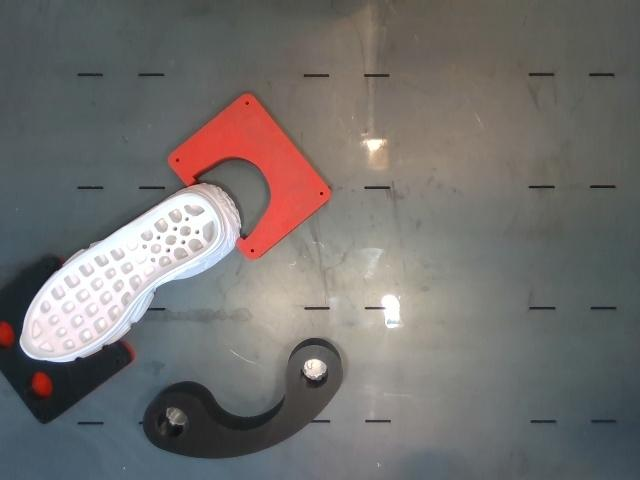shoes: (20, 192, 225, 360)
